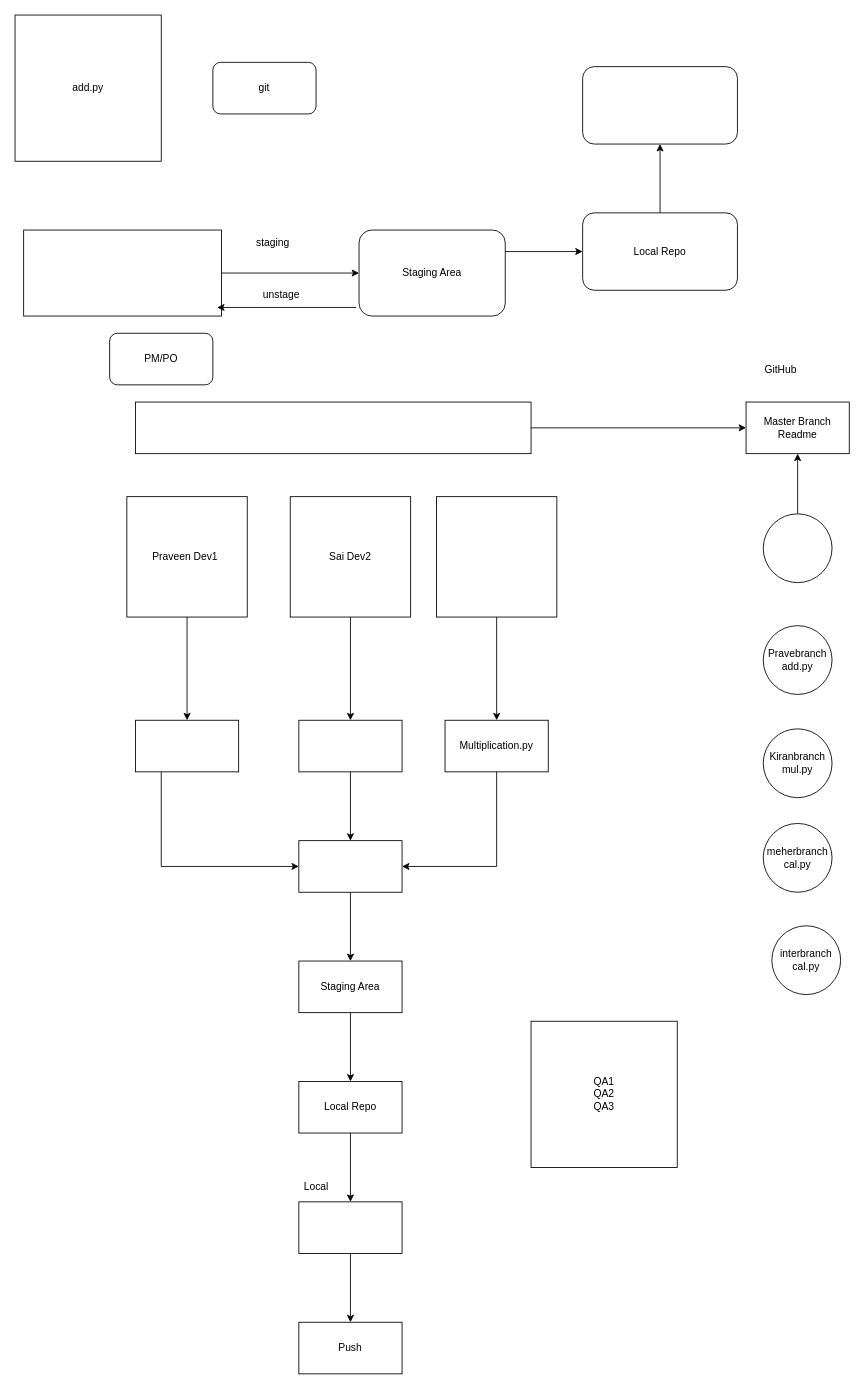
Some shapes in this 864 by 1389 pixel diagram are drawn without their labels. Here are the shapes that lost their labels. From the top down, the centre of each, then its label:
the point at 659,105: Remote Repo Cloud
the point at 122,272: Working Directory
the point at 333,427: Meher URL: compayname/commonprojectname/anydetailname/Calc_meme.git
the point at 496,556: Kiran Dev3
the point at 797,548: Saibranch sub.py
the point at 187,745: Addition.py
the point at 350,745: Substraction.py
the point at 350,866: Working Dir
the point at 350,1227: Sai_Branch
